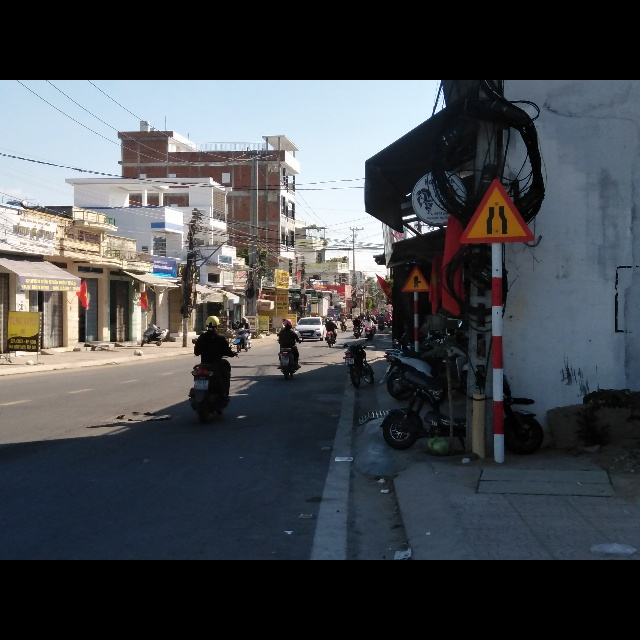Giao nhau với đường không ưu tiên: (398, 264, 431, 293)
Đường bị hẹp cả hai bên: (459, 178, 534, 244)
